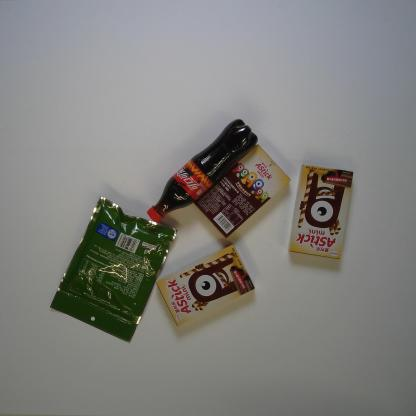Dessert: (194, 144, 291, 238), (156, 244, 256, 327), (288, 164, 353, 260)
Dried Fruit: (48, 197, 178, 344)
Drink: (147, 118, 259, 224)
